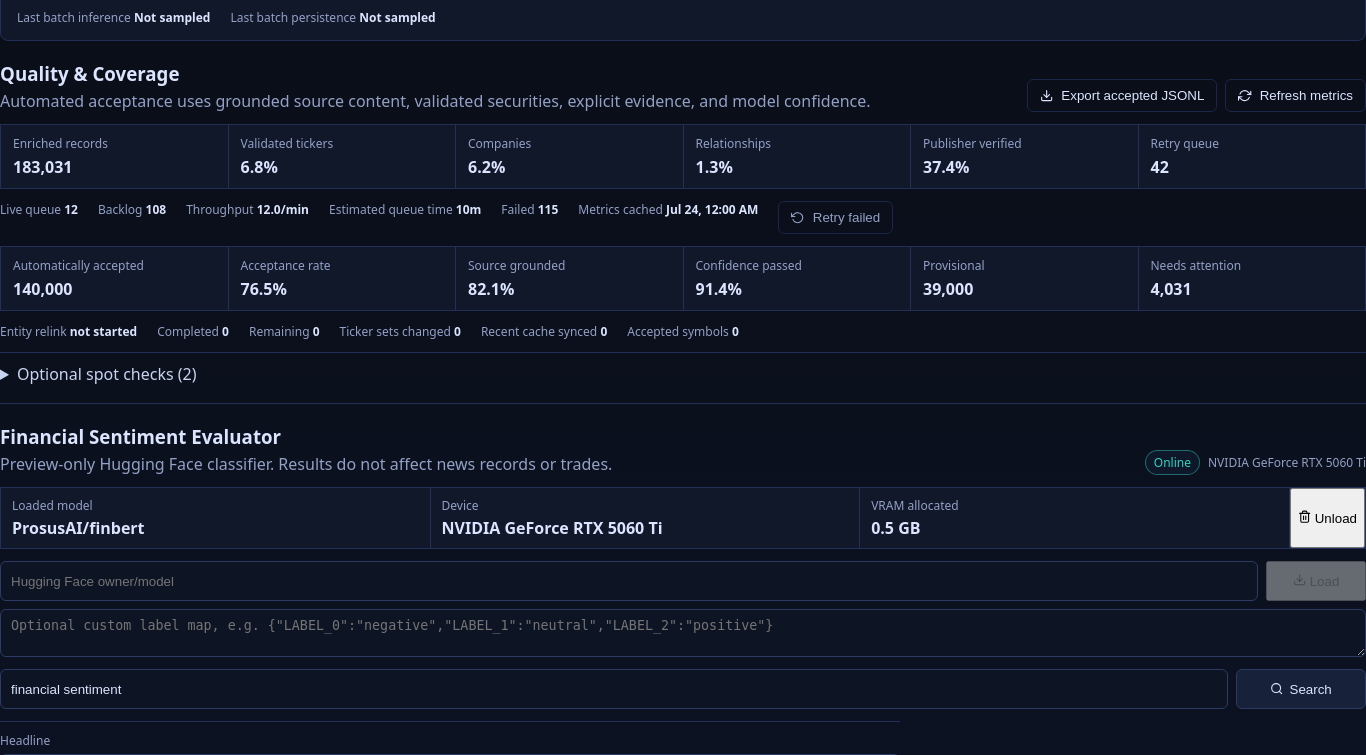
Test case: NewsLlm › shows enrichment coverage, queue ETA, and review samples
This screenshot has width=1366, height=755.
(page scrolled)
Expected: the text "183,031" is shown, [13, 156, 72, 178]
Expected: the text "6.8%" is shown, [240, 156, 278, 178]
Click the heading "Optional spot checks (2)". click: (98, 374)
box: [0, 363, 196, 385]
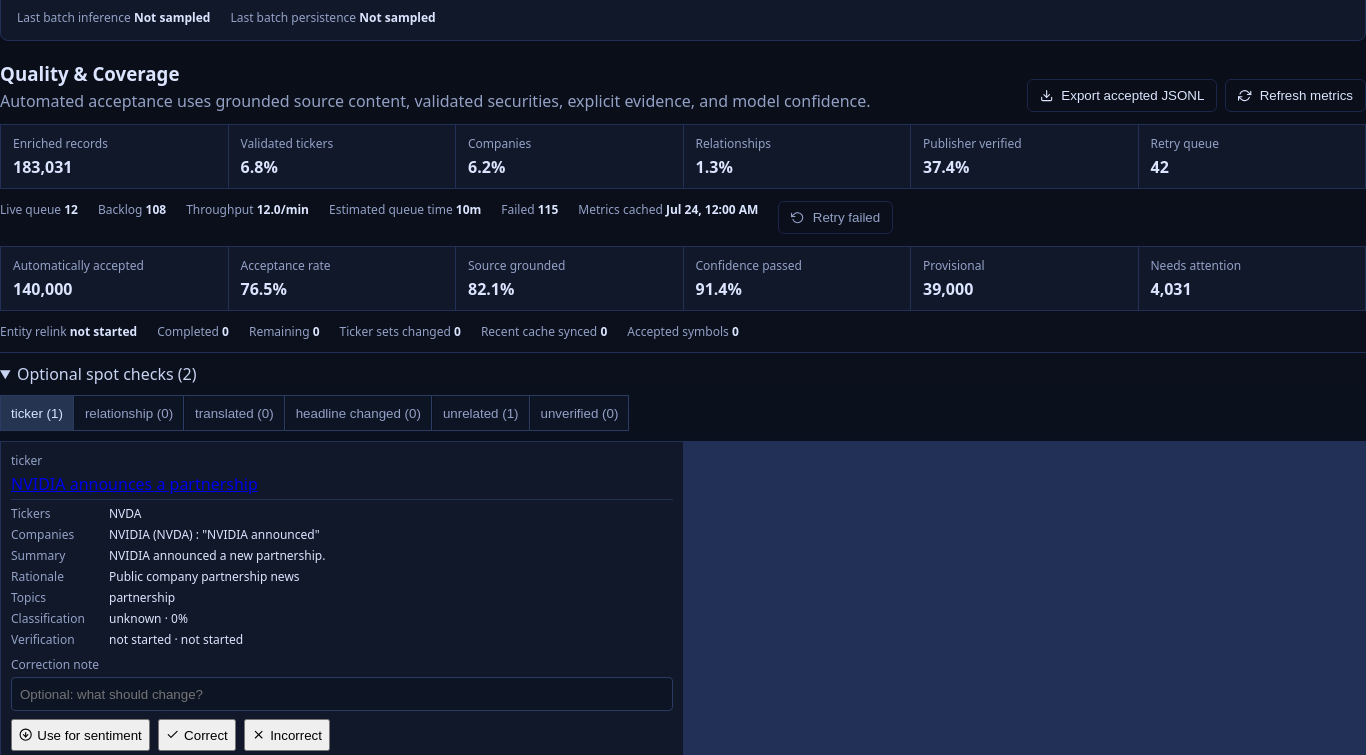
Expected: the text "Local weather forecast" is not shown
Expected: the link "NVIDIA announces a partnership" is shown, [11, 473, 258, 495]
Expected: the text "NVIDIA announced a new partnership." is shown, [109, 547, 325, 564]
Click the tab "unrelated (1)". click: (481, 413)
box: [433, 396, 530, 430]
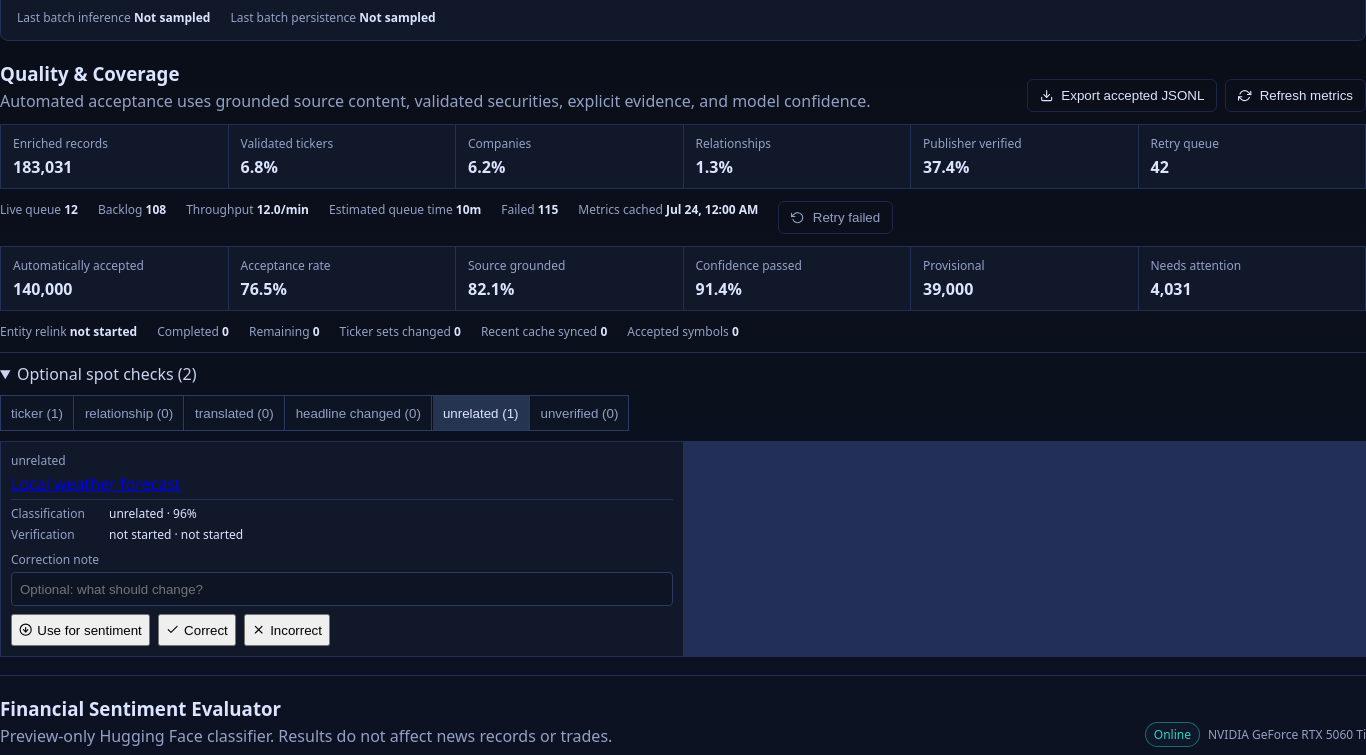
Expected: the link "Local weather forecast" is shown, [11, 473, 181, 495]
